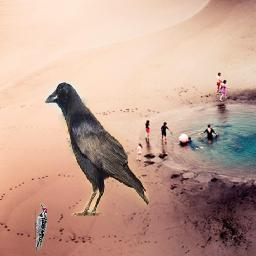Crow: (45, 82, 149, 217)
Woodpecker: (35, 204, 47, 251)
